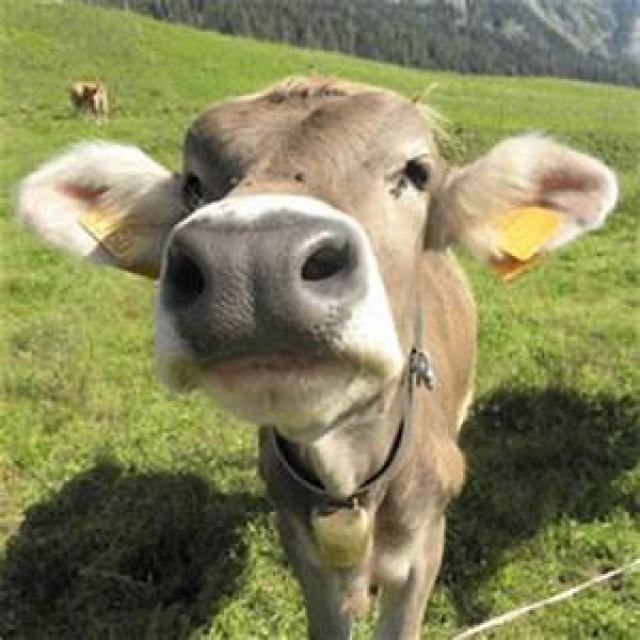cow: (18, 76, 618, 640)
